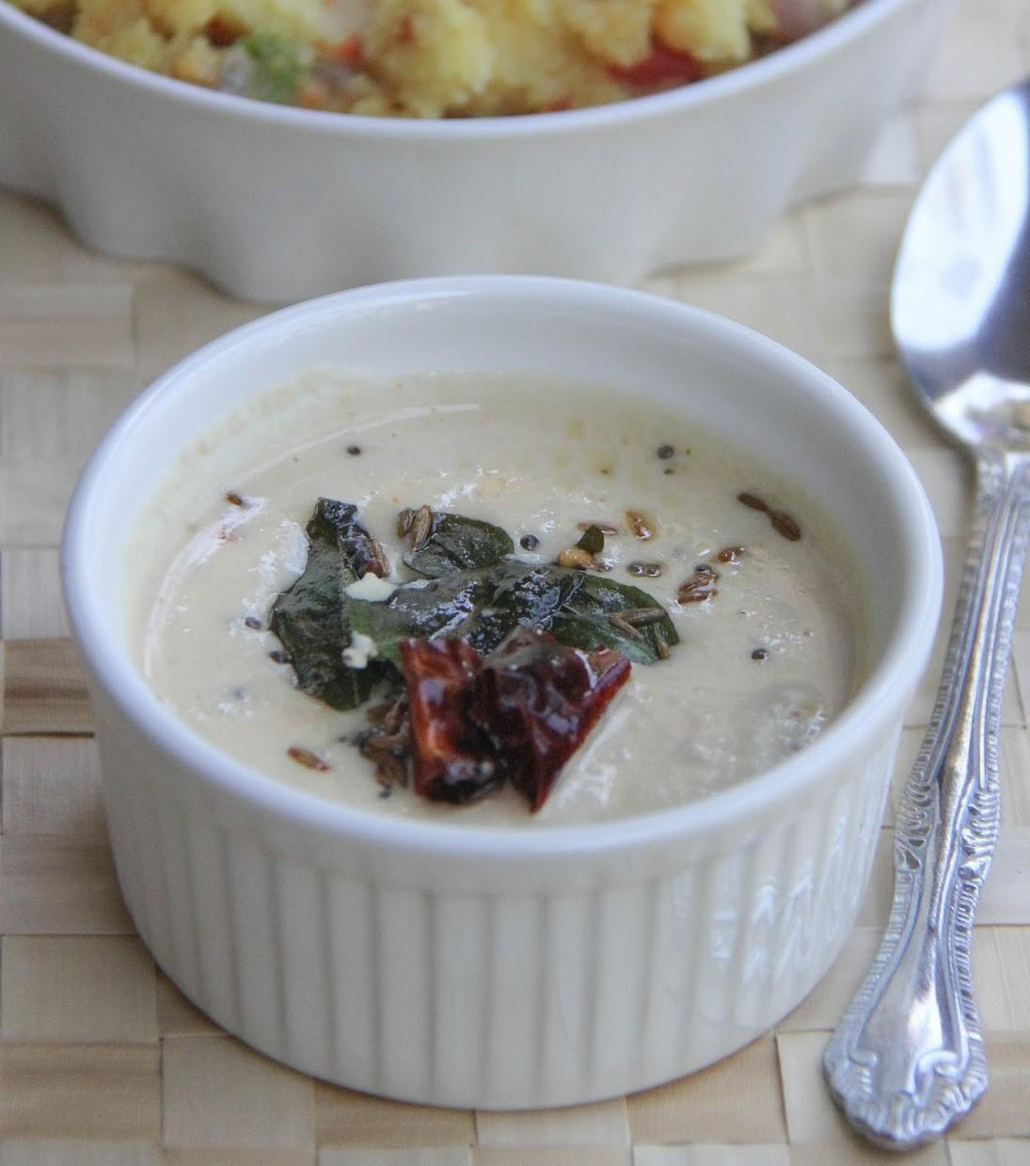CoconutChutney: (140, 402, 850, 847)
